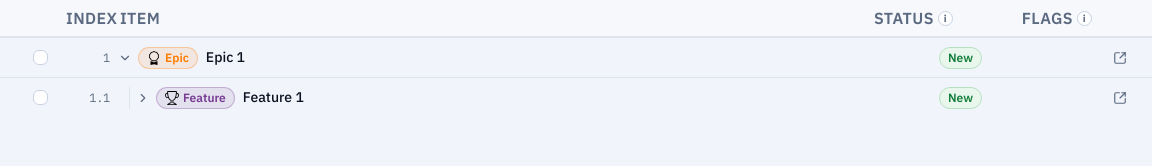
Test case: DiffTree › shows a review chip on a low-confidence row with otherwise healthy scores
Step 1. Click the button named "expand feature 1" → x=143, y=98, box [134, 88, 152, 106]
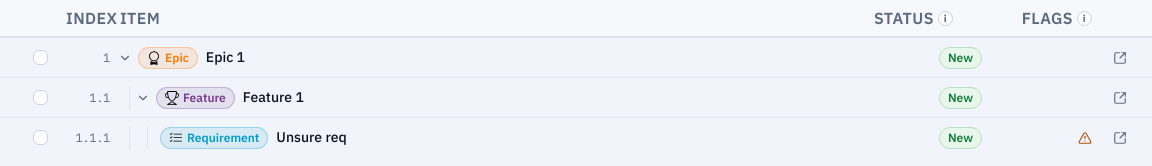
Expected: the element titled "model was unsure" is shown, [1078, 130, 1092, 144]
